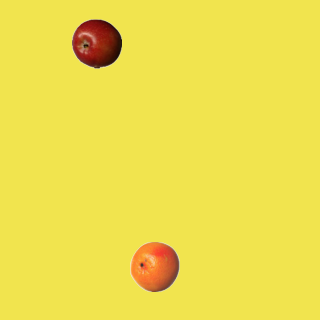Apple Braeburn: (71, 18, 121, 68)
Grapefruit Pink: (129, 241, 179, 291)
